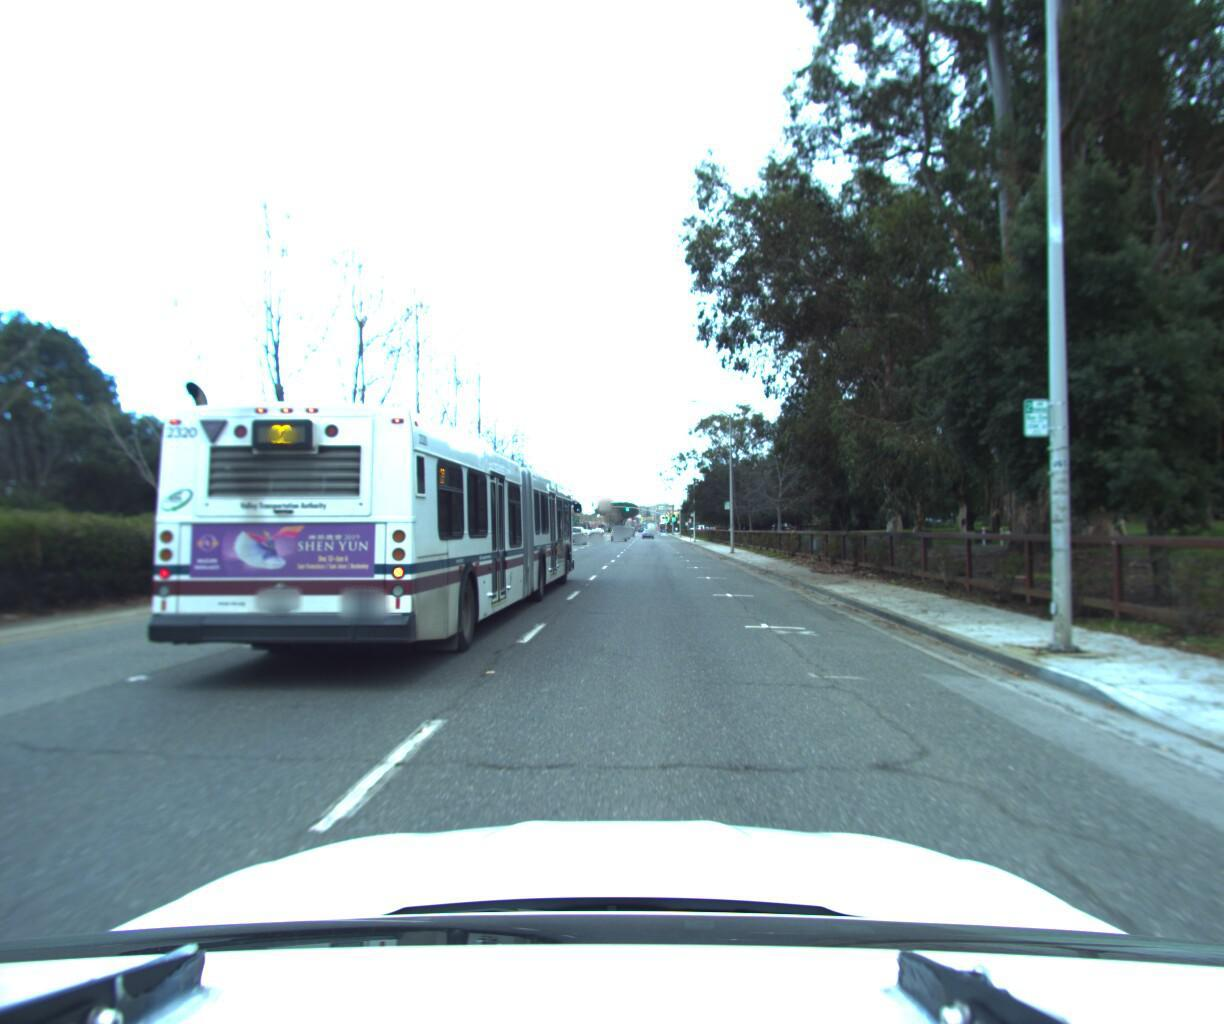bus: (126, 359, 583, 694)
car: (566, 522, 593, 544)
